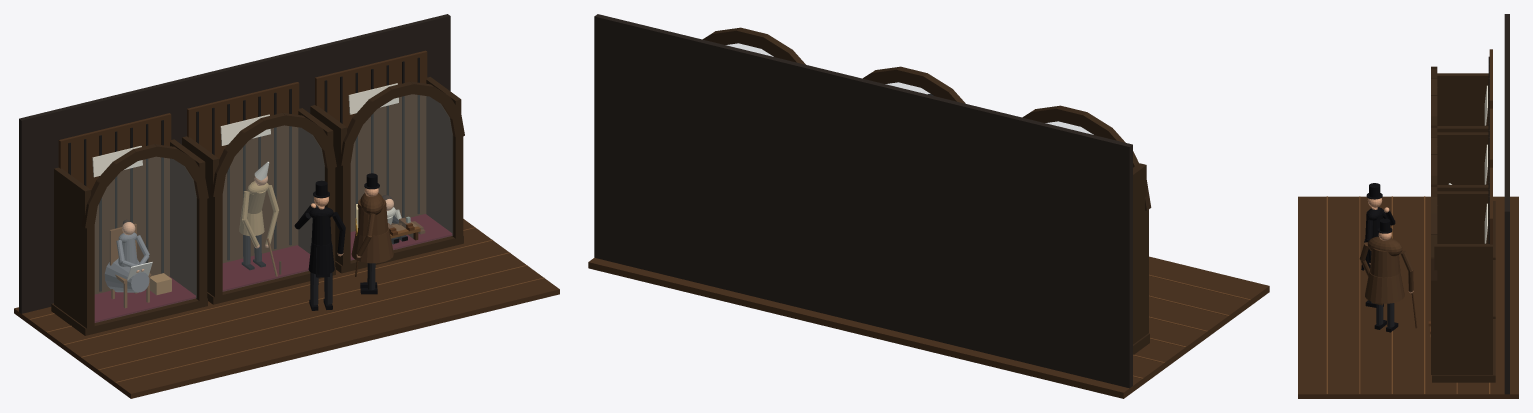
File: scan-fig39-specimens-from-the-antipodes-muse.glb
3 renders of one model, left to right at view 1: azimuth 30°, elevation 25°; view 2: azimuth 150°, elevation 25°; view 3: azimuth 270°, elevation 25°, orthographic. The views are drawn at different scales.
Visible parts, largest first — view 1: Floor, BackWall, Case-2.15_ArchGlass, Case0.0_ArchGlass, Case2.15_ArchGlass, Case2.15_Back, Case0.0_Back, Case-2.15_Back, Case-2.15_Post-1, Case2.15_Post1, Case-2.15_Post1, Case0.0_Post1 (+26 smaller); view 2: BackWall, Floor, Case-2.15_Post-1; view 3: Floor, Case2.15_Post1, Case-2.15_Post-1, Case2.15_Post-1, Case0.0_Post-1, BackWall, PortlyGent_coatskirt, PortlyGent_torso, Case2.15_Plinth, PortlyGent_shoulders, Case2.15_Jamb1, FloorGroove0 (+7 smaller).
Part boxes in pixels (<box>): Floor: <box>14,219,559,398</box>; BackWall: <box>19,14,450,313</box>; Case-2.15_ArchGlass: <box>95,157,196,322</box>; Case0.0_ArchGlass: <box>223,125,324,291</box>; Case2.15_ArchGlass: <box>351,94,452,259</box>; Case2.15_Back: <box>315,50,427,231</box>; Case0.0_Back: <box>187,82,299,263</box>; Case-2.15_Back: <box>58,113,171,294</box>; Case-2.15_Post-1: <box>54,167,90,326</box>; Case2.15_Post1: <box>426,77,461,232</box>; Case-2.15_Post1: <box>170,139,205,295</box>; Case0.0_Post1: <box>298,108,333,253</box>; BackWall: <box>594,14,1132,388</box>; Floor: <box>588,256,1269,398</box>; Case-2.15_Post-1: <box>1133,163,1146,344</box>; Floor: <box>1298,196,1518,398</box>; Case2.15_Post1: <box>1434,244,1492,374</box>; Case-2.15_Post-1: <box>1437,73,1488,125</box>; Case2.15_Post-1: <box>1437,191,1488,243</box>; Case0.0_Post-1: <box>1437,132,1488,184</box>; BackWall: <box>1504,14,1509,394</box>; PortlyGent_coatskirt: <box>1365,270,1404,303</box>; PortlyGent_torso: <box>1370,248,1400,277</box>; Case2.15_Plinth: <box>1432,319,1495,382</box>; PortlyGent_shoulders: <box>1367,236,1402,256</box>; Case2.15_Jamb1: <box>1431,280,1437,374</box>; FloorGroove0: <box>1326,196,1327,394</box>.
Size of the model in its own units: 7.2 by 3.18 by 3.4.
